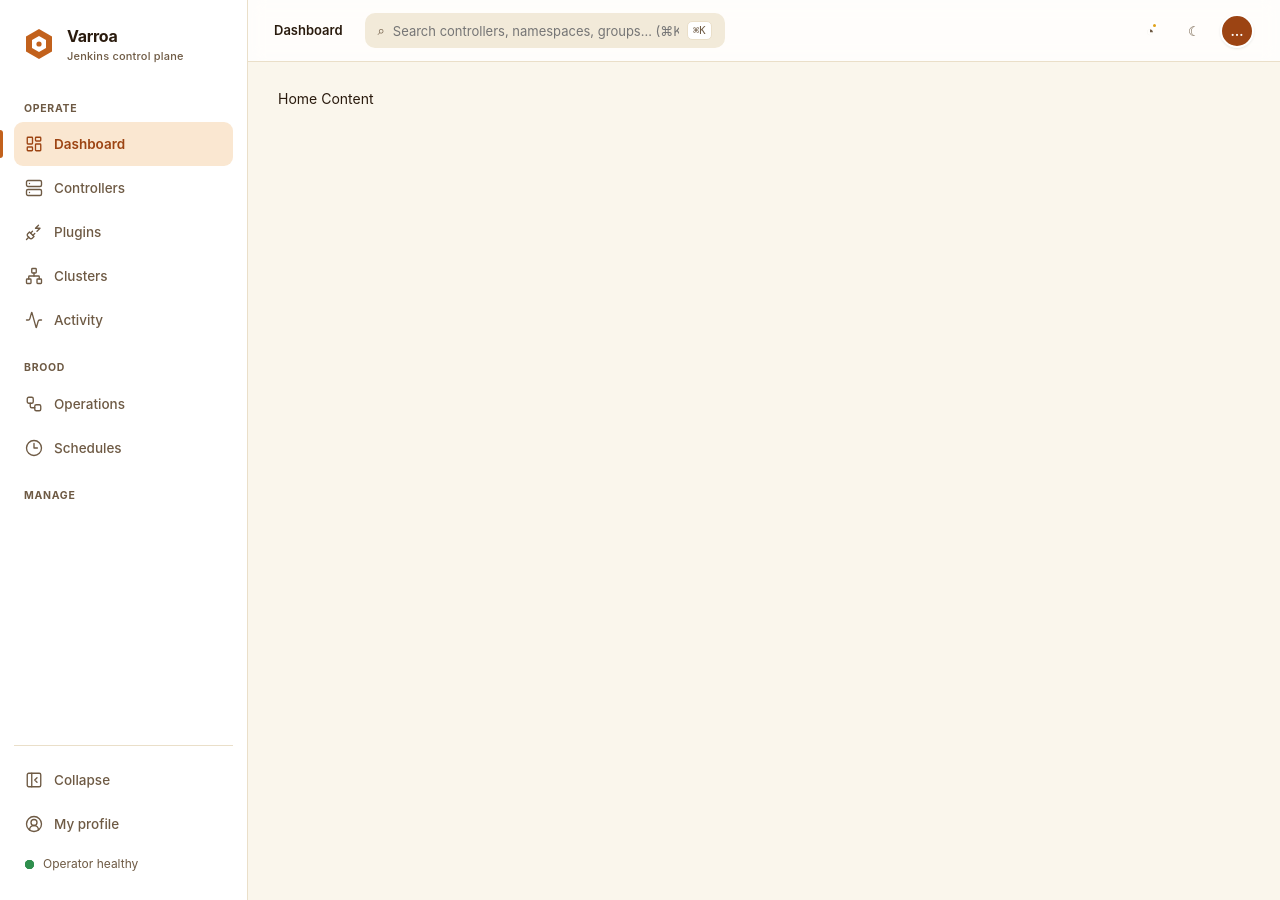
Layout › sidebar collapse › toggles on button click and persists to localStorage
Click the button with aria-label "Collapse sidebar" at [124, 780], box [14, 758, 233, 802]
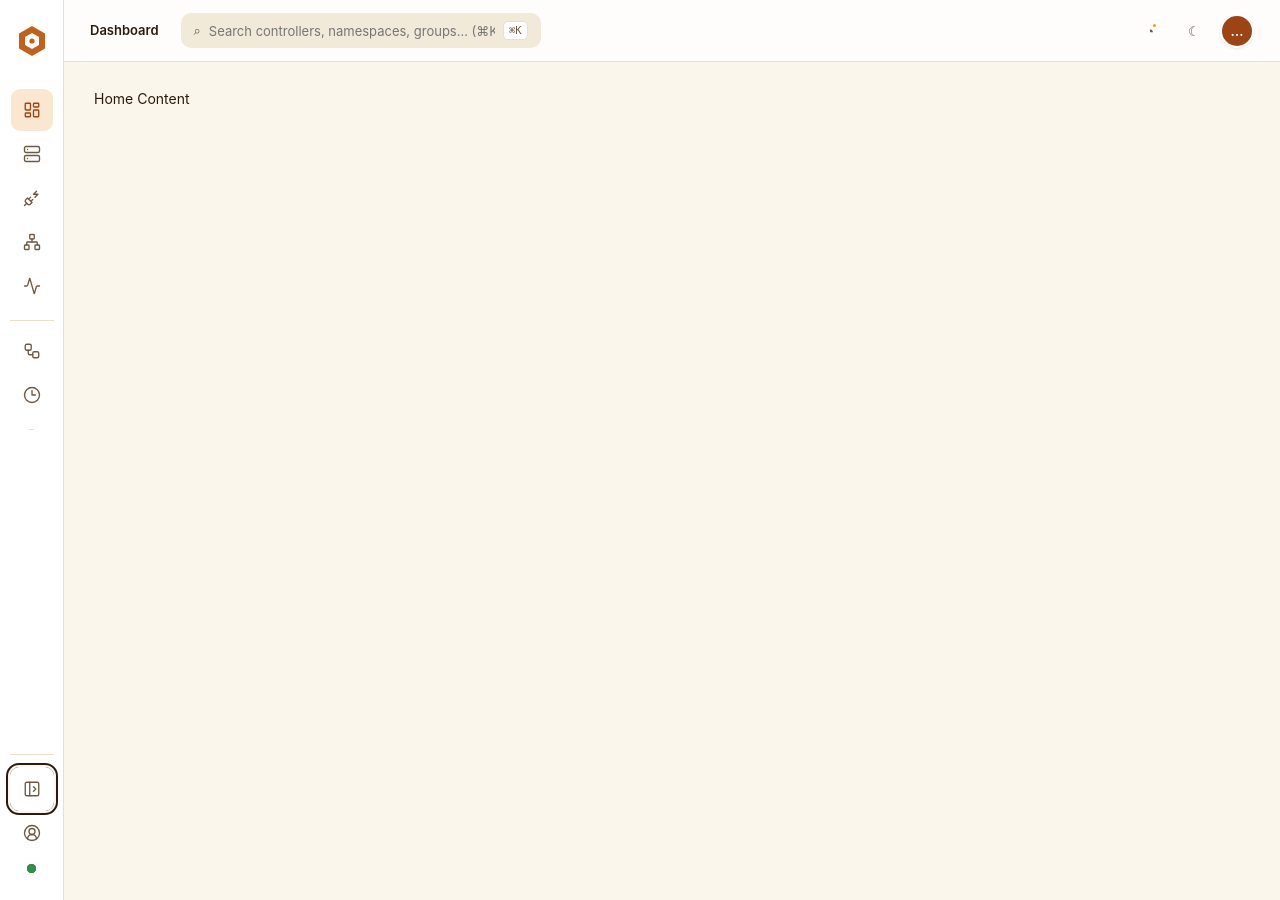
Check: the button named "Collapse sidebar" is collapsed
Note: click again
Click the button named "Collapse sidebar" at [32, 789], box [10, 767, 54, 811]
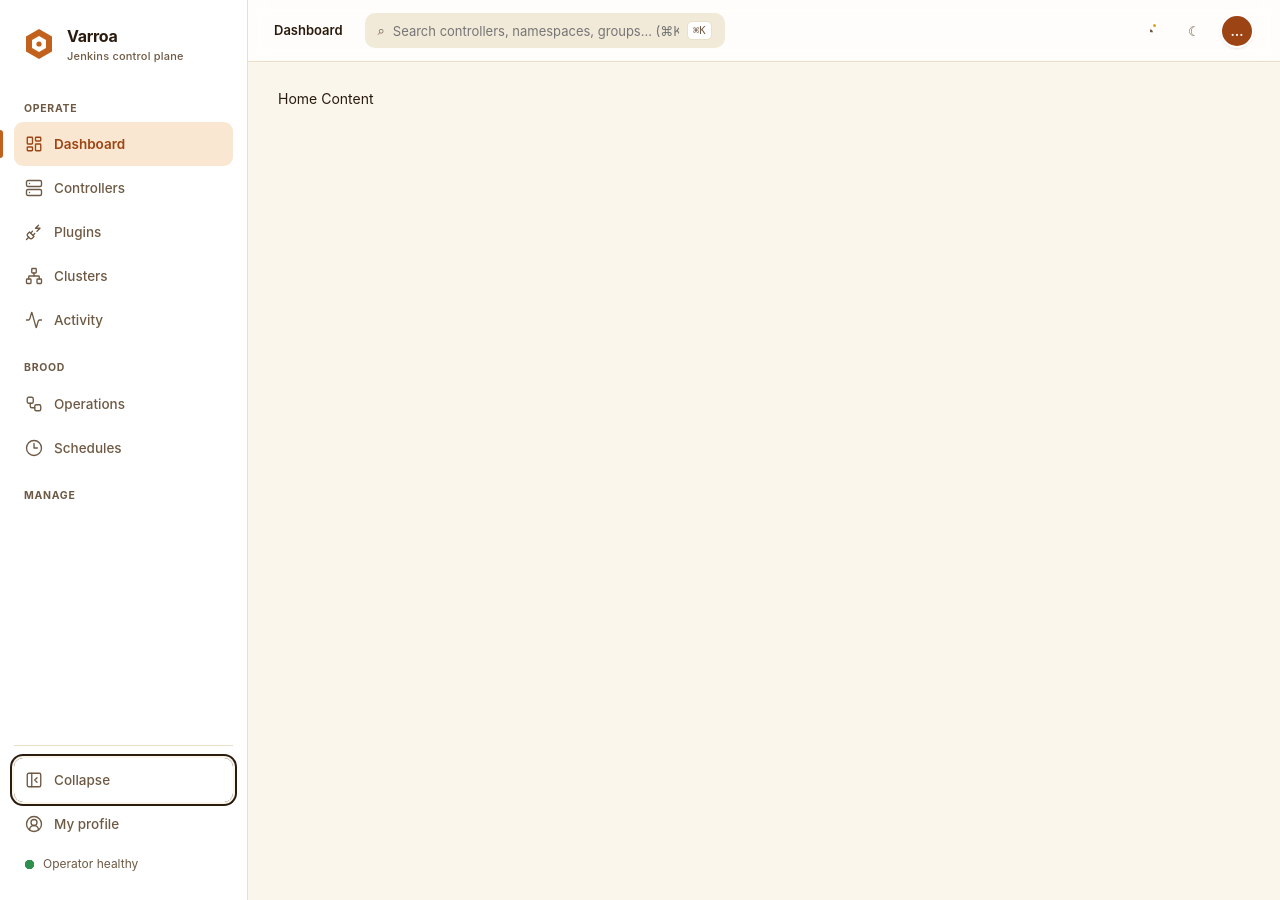
Check: the button with aria-label "Collapse sidebar" is expanded, box [14, 758, 233, 802]
